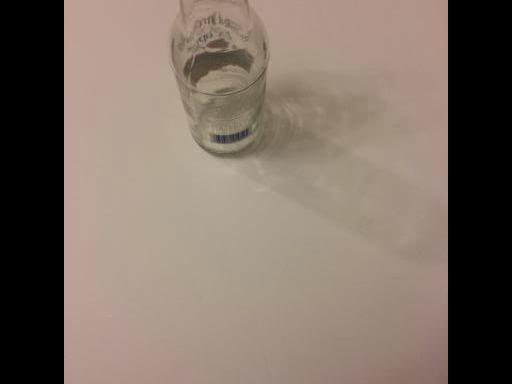glass: (169, 0, 448, 268)
sodocalcique: (169, 0, 448, 268)
